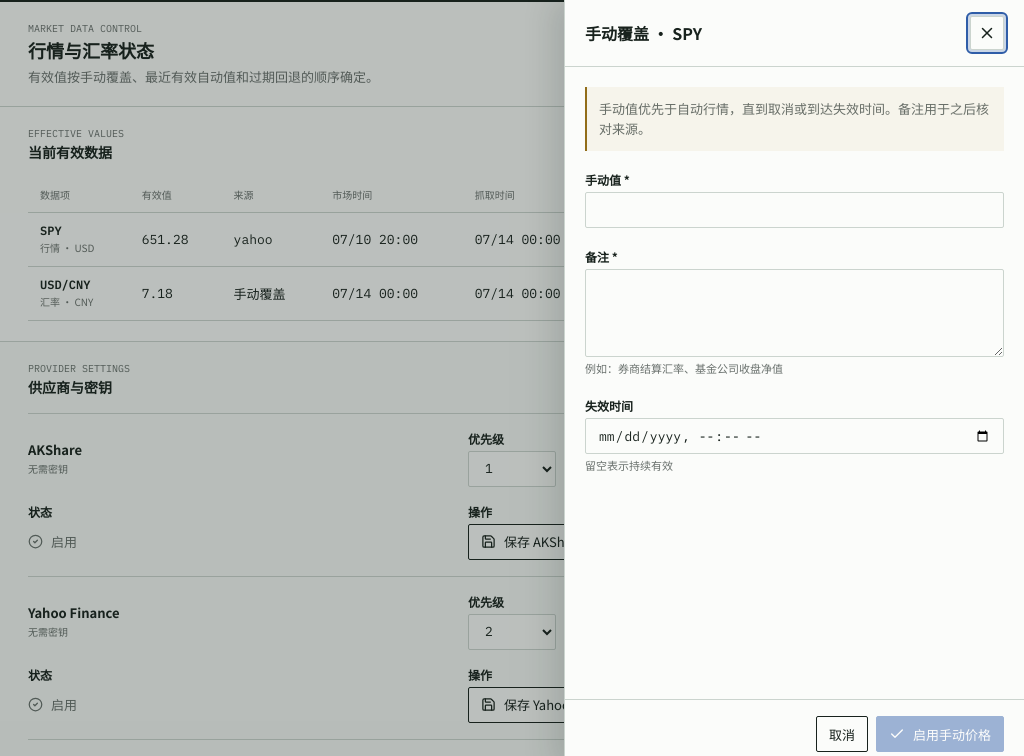
Test: opens and clears a deep-linked override
This screenshot has width=1024, height=756.
Click the button "取消".
click(842, 734)  # box [816, 716, 868, 752]
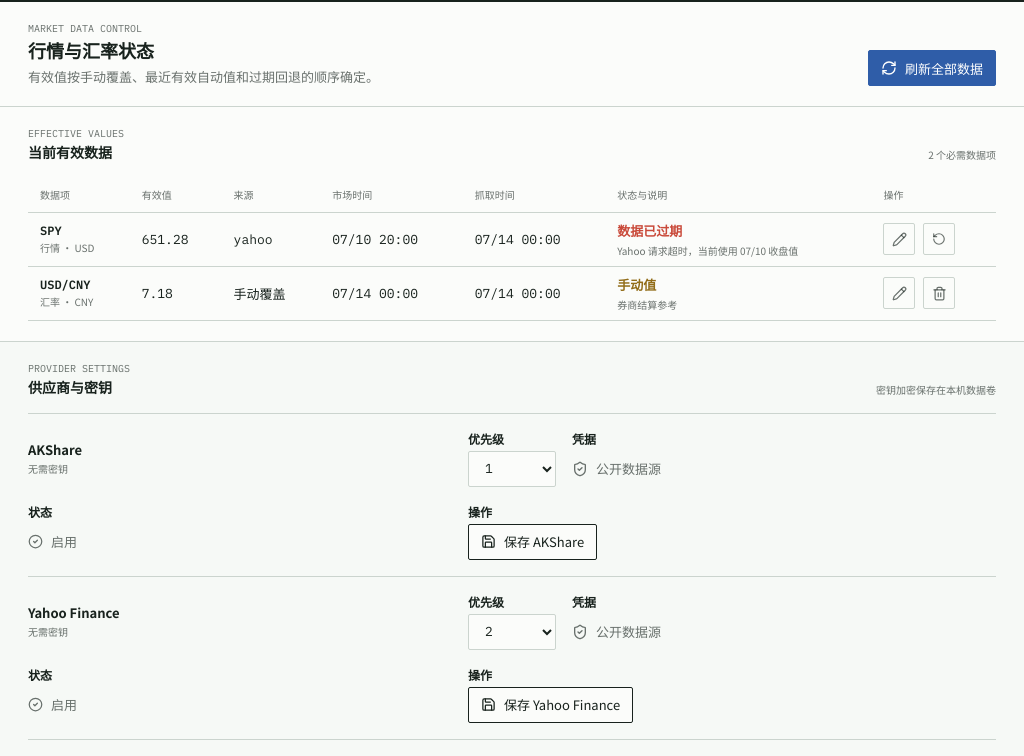
Check: the heading "手动覆盖 · SPY" is gone
